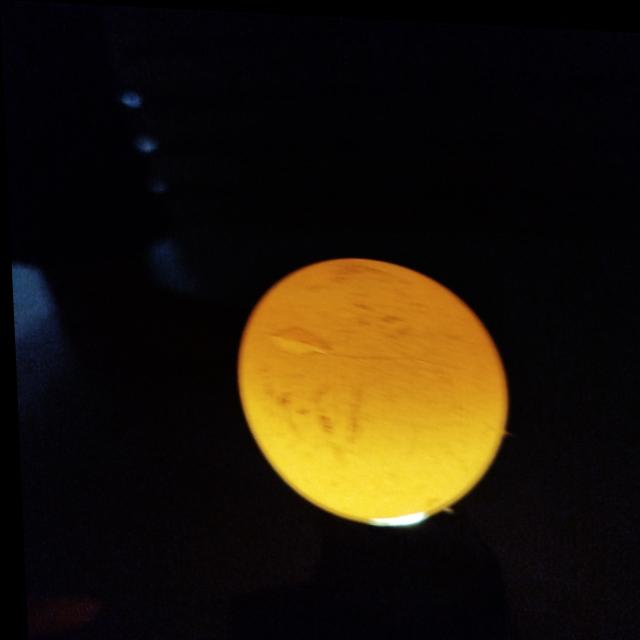Rachadura: (270, 324, 431, 361)
